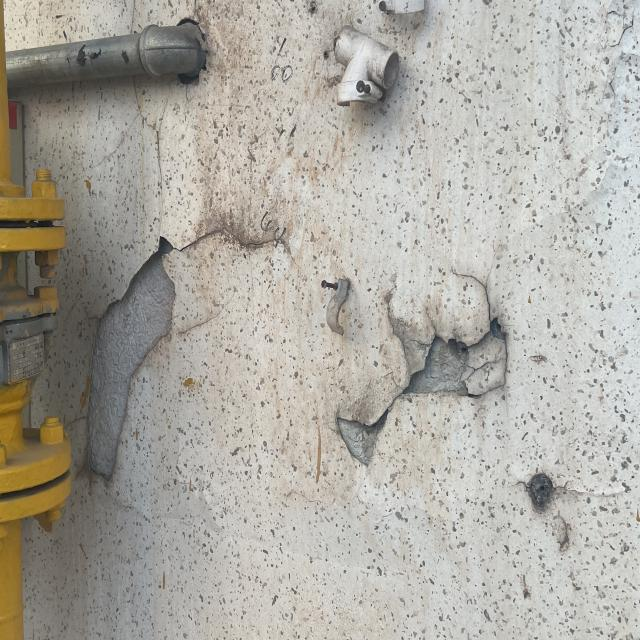crack: (115, 77, 179, 221), (177, 210, 310, 274)
spalling: (308, 262, 536, 492), (68, 232, 191, 493)
